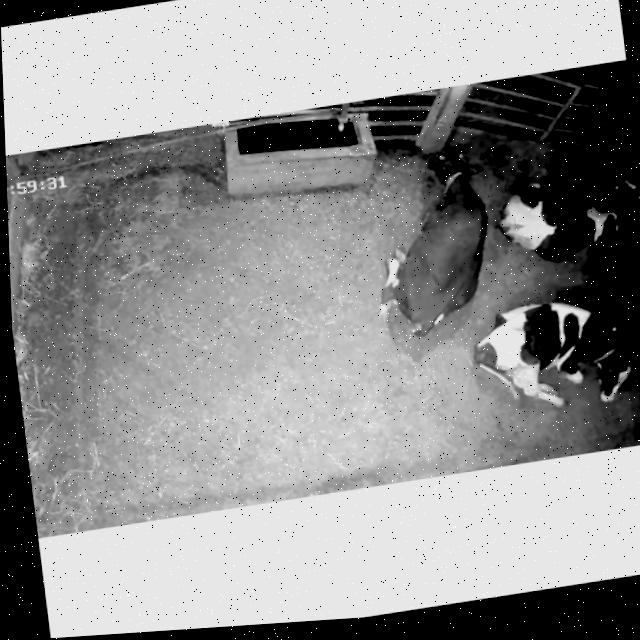lay: (379, 150, 488, 337), (471, 302, 630, 407), (495, 180, 640, 262)
